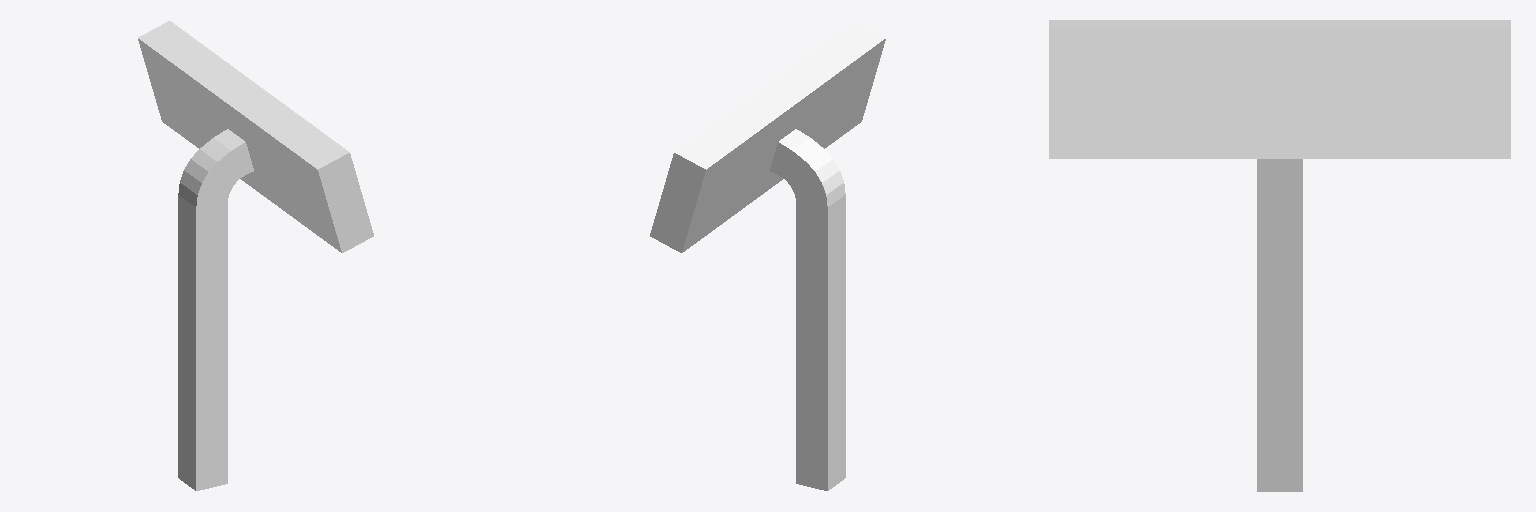
URDF robot description (brush):
<?xml version="1.0" encoding="utf-8"?>
<!-- This URDF was automatically created by SolidWorks to URDF Exporter! Originally created by Stephen Brawner (brawner@gmail.com) 
     Commit Version: 1.6.0-4-g7f85cfe  Build Version: 1.6.7995.38578
     For more information, please see http://wiki.ros.org/sw_urdf_exporter -->
<robot
  name="brush">
  <link
    name="base_link">
    <inertial>
      <origin
        xyz="0.020252 0.016644 1.3454E-18"
        rpy="0 0 0" />
      <mass
        value="0.11505" />
      <inertia
        ixx="0.00030617"
        ixy="-3.3617E-05"
        ixz="1.2367E-21"
        iyy="0.00015489"
        iyz="-3.0942E-20"
        izz="0.00018021" />
    </inertial>
    <visual>
      <origin
        xyz="0 0 0"
        rpy="0 0 0" />
      <geometry>
        <mesh
          filename="package://brush/meshes/base_link.STL" />
      </geometry>
      <material
        name="">
        <color
          rgba="1 1 1 1" />
      </material>
    </visual>
    <collision>
      <origin
        xyz="0 0 0"
        rpy="0 0 0" />
      <geometry>
        <mesh
          filename="package://brush/meshes/brush_part_0.glb" />
      </geometry>
    </collision>
    <collision>
      <origin
        xyz="0 0 0"
        rpy="0 0 0" />
      <geometry>
        <mesh
          filename="package://brush/meshes/brush_part_1.glb" />
      </geometry>
    </collision>
    <collision>
      <origin
        xyz="0 0 0"
        rpy="0 0 0" />
      <geometry>
        <mesh
          filename="package://brush/meshes/brush_part_2.glb" />
      </geometry>
    </collision>
    <collision>
      <origin
        xyz="0 0 0"
        rpy="0 0 0" />
      <geometry>
        <mesh
          filename="package://brush/meshes/brush_part_3.glb" />
      </geometry>
    </collision>
    <collision>
      <origin
        xyz="0 0 0"
        rpy="0 0 0" />
      <geometry>
        <mesh
          filename="package://brush/meshes/brush_part_4.glb" />
      </geometry>
    </collision>
  </link>
</robot>

--- Facts derived from the render (not from the file) ---
Views: 3 orthographic renders of the robot side by side, from view 1: azimuth 30°, elevation 25°; view 2: azimuth 150°, elevation 25°; view 3: azimuth 270°, elevation 25°.
Robot: brush — 1 links, 0 joints (none); root link base_link; default pose: every joint at zero.
Visible links, largest first — view 1: base_link; view 2: base_link; view 3: base_link.
Boxes of the visible links, x1,y1,x2,y2 form: base_link: (138,21,373,490); base_link: (650,21,885,490); base_link: (1049,20,1510,491).
Size in the robot's own frame: 0.0435 by 0.14 by 0.1632 metres.
1 mesh visuals loaded from 1 distinct referenced files (1 binary STL).
